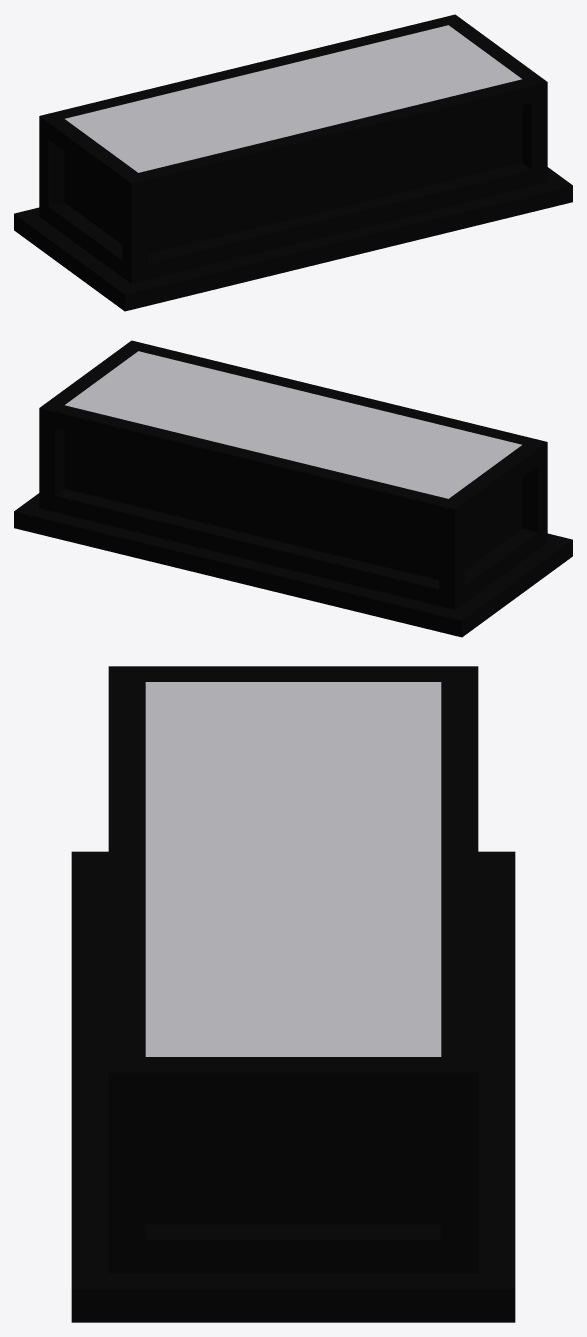
File: tomb_d_b.obj
The picture shows the model from 3 angles, top to bottom: view 1: azimuth 30°, elevation 25°; view 2: azimuth 150°, elevation 25°; view 3: azimuth 270°, elevation 25°; orthographic projection. The views are drawn at different scales.
Bounding box in the file's own units: 2.8 × 0.7 × 1.2.
1 material, 1 textured.
